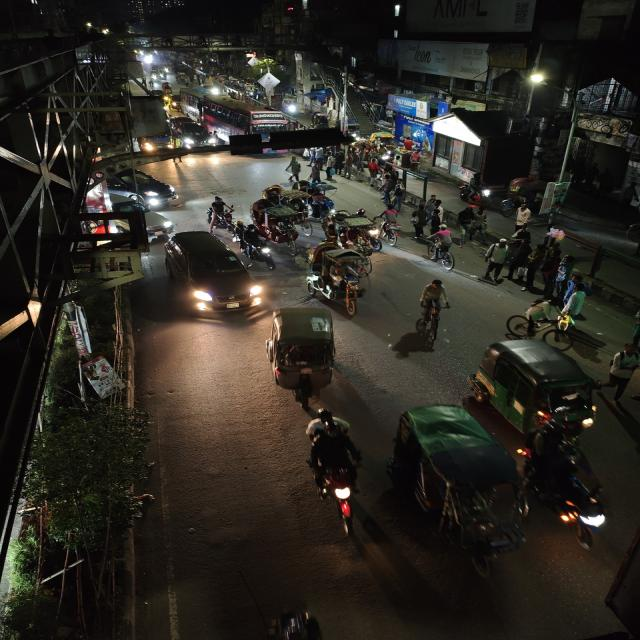bus: (194, 96, 290, 140)
car: (161, 228, 262, 320), (95, 170, 179, 210), (169, 116, 214, 150)
cng: (386, 404, 530, 580), (475, 337, 609, 437)
motorcycle: (523, 423, 613, 548), (297, 406, 366, 533), (241, 222, 276, 266)
pedestrian: (412, 277, 454, 331), (603, 343, 640, 403), (517, 297, 568, 340), (501, 238, 532, 282), (482, 238, 510, 284), (562, 281, 592, 321), (431, 223, 455, 266), (550, 254, 575, 294), (469, 208, 491, 245), (409, 205, 430, 241), (380, 178, 402, 208), (456, 207, 476, 239), (282, 156, 304, 185), (513, 204, 531, 232), (307, 160, 325, 188), (322, 154, 338, 182), (428, 192, 443, 218)
rickshaw: (262, 302, 343, 389), (305, 242, 370, 315)
